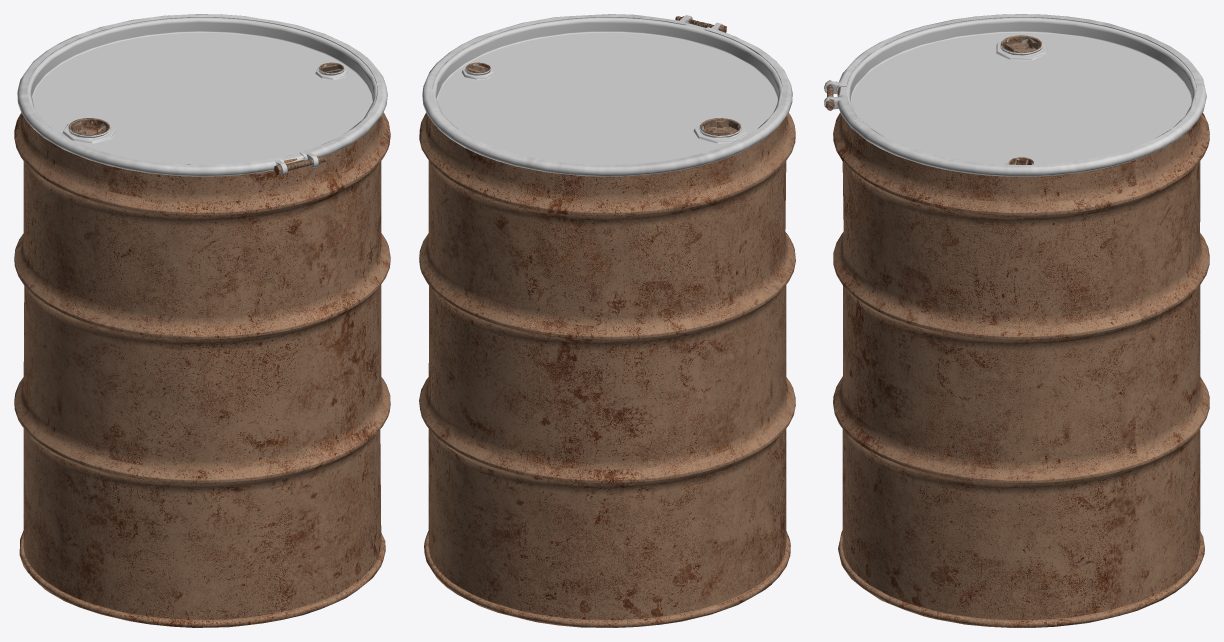
The model's file is drum_rusty.glb.
3 renders of one model, left to right at view 1: azimuth 30°, elevation 25°; view 2: azimuth 150°, elevation 25°; view 3: azimuth 270°, elevation 25°, orthographic.
Visible parts, largest first — view 1: drum_rusty, drum_lid; view 2: drum_rusty, drum_lid; view 3: drum_rusty, drum_lid.
Boxes of the visible parts, box(x1,y1,x2,y2) form: drum_rusty: box(14, 112, 390, 627); drum_lid: box(17, 14, 387, 176); drum_rusty: box(419, 112, 795, 627); drum_lid: box(422, 14, 792, 176); drum_rusty: box(833, 87, 1209, 627); drum_lid: box(824, 14, 1206, 176).
Bounding box in the file's own units: 0.6418 × 0.8683 × 0.657.
4 materials, 3 textured.
